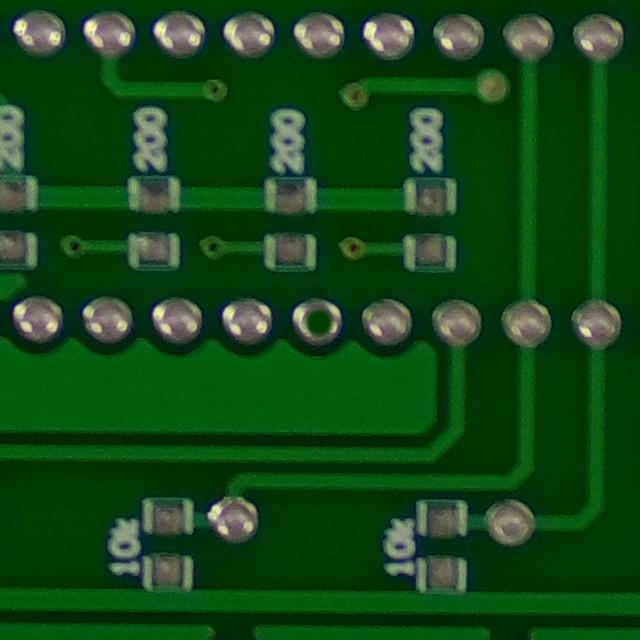missing_hole: (291, 291, 348, 352)
